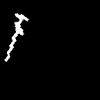double_crochet: (5, 14, 27, 60)
